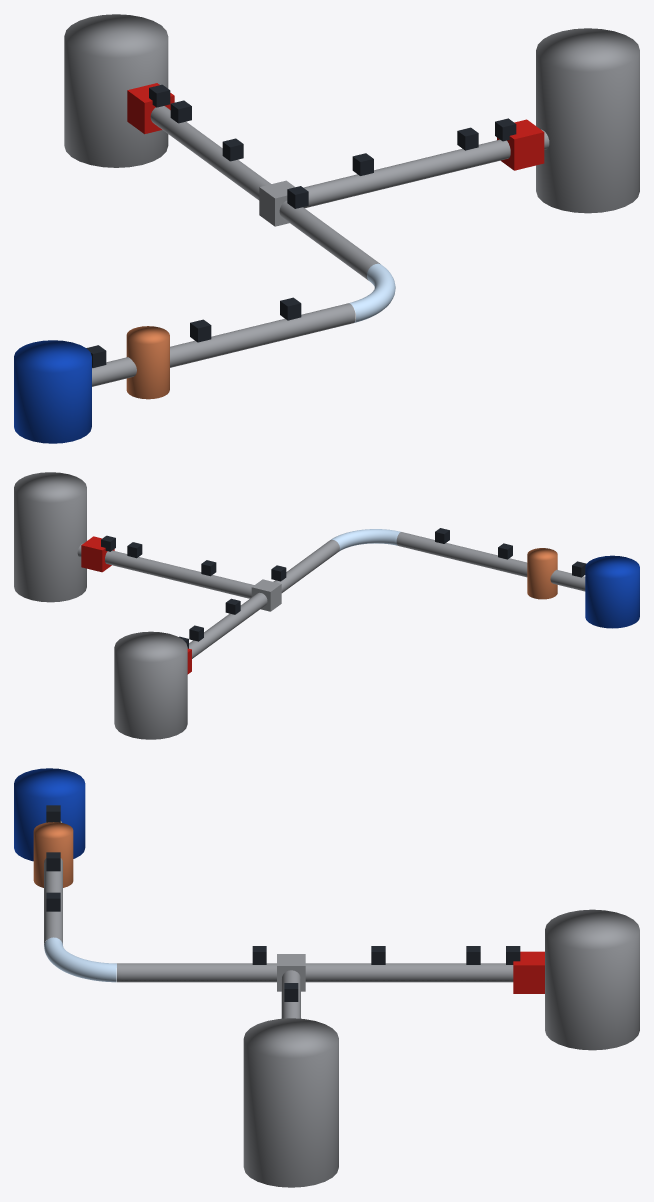
File: loop_twin.glb
3 renders of one model, top to bottom at view 1: azimuth 30°, elevation 25°; view 2: azimuth 150°, elevation 25°; view 3: azimuth 270°, elevation 25°, orthographic. The views are drawn at different scales.
Parts seen in each view (by area): view 1: tank_B, tank_C, pump, pipe_A_in, pipe_B, heater, pipe_C, pipe_A_riser, valve_B, elbow_glass, valve_C, tee; view 2: tank_B, tank_C, pump, pipe_A_in, pipe_B, heater, pipe_C, pipe_A_riser, elbow_glass, valve_B, tee; view 3: tank_B, tank_C, pump, pipe_C, pipe_A_riser, heater, elbow_glass, valve_C, pipe_A_in, tee, pipe_B.
Boxes of the visible parts, box(x1,y1,x2,y2) form: tank_B: box(536, 28, 639, 213); tank_C: box(64, 14, 168, 167); pump: box(14, 340, 91, 443); pipe_A_in: box(92, 303, 355, 386); pipe_B: box(303, 129, 549, 208); heater: box(126, 326, 169, 399); pipe_C: box(150, 106, 271, 200); pipe_A_riser: box(279, 200, 380, 280); valve_B: box(497, 119, 544, 170); elbow_glass: box(349, 263, 395, 322); valve_C: box(127, 83, 174, 134); tee: box(259, 180, 295, 226); tank_B: box(14, 472, 86, 602); tank_C: box(114, 631, 187, 739); pump: box(585, 555, 639, 628); pipe_A_in: box(396, 532, 585, 591); pipe_B: box(77, 543, 254, 598); heater: box(527, 548, 557, 599); pipe_C: box(189, 592, 267, 658); pipe_A_riser: box(273, 539, 339, 592); elbow_glass: box(331, 529, 400, 551); valve_B: box(81, 536, 114, 572); tee: box(251, 579, 281, 611); tank_B: box(243, 1018, 338, 1187); tank_C: box(545, 909, 639, 1050); pump: box(14, 768, 85, 861); pipe_C: box(305, 963, 513, 982); pipe_A_riser: box(117, 963, 276, 982); heater: box(33, 822, 73, 887); elbow_glass: box(44, 937, 116, 982); valve_C: box(513, 951, 544, 993); pipe_A_in: box(44, 821, 62, 945); tee: box(277, 954, 305, 991); pipe_B: box(281, 970, 300, 1018).
Size of the model in its own units: 9.95 by 1.8 by 7.9.
